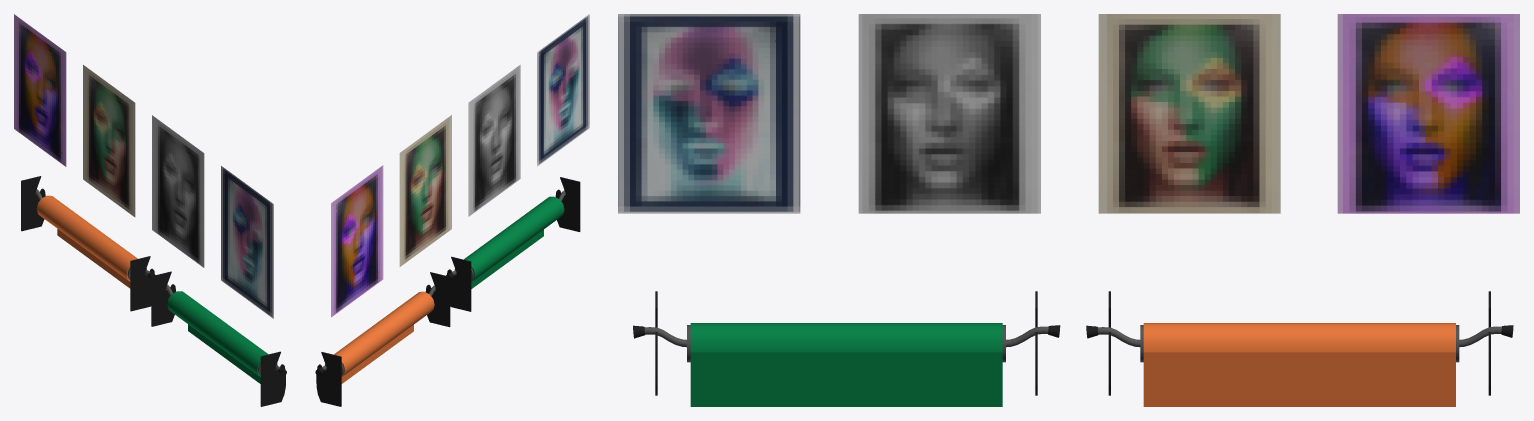
Rendered from DecoPared-Cuadros_soportePapelPared.glb.
3 renders of one model, left to right at view 1: azimuth 30°, elevation 25°; view 2: azimuth 150°, elevation 25°; view 3: azimuth 270°, elevation 25°, orthographic. The views are drawn at different scales.
Visible parts, largest first — view 1: cuadros, Cylinder, Cylinder.001; view 2: cuadros, Cylinder.001, Cylinder; view 3: cuadros, Cylinder.001, Cylinder.
Part boxes in pixels (bbox=[...]): cuadros: bbox=[14, 14, 273, 318]; Cylinder: bbox=[151, 271, 286, 406]; Cylinder.001: bbox=[21, 176, 155, 311]; cuadros: bbox=[331, 14, 589, 317]; Cylinder.001: bbox=[315, 272, 450, 406]; Cylinder: bbox=[446, 177, 580, 311]; cuadros: bbox=[618, 14, 1519, 213]; Cylinder.001: bbox=[1086, 291, 1513, 406]; Cylinder: bbox=[633, 291, 1060, 406].
Bounding box in the file's own units: 0.4426 × 3.43 × 7.53.
Materials: 8 (4 with a texture image).
